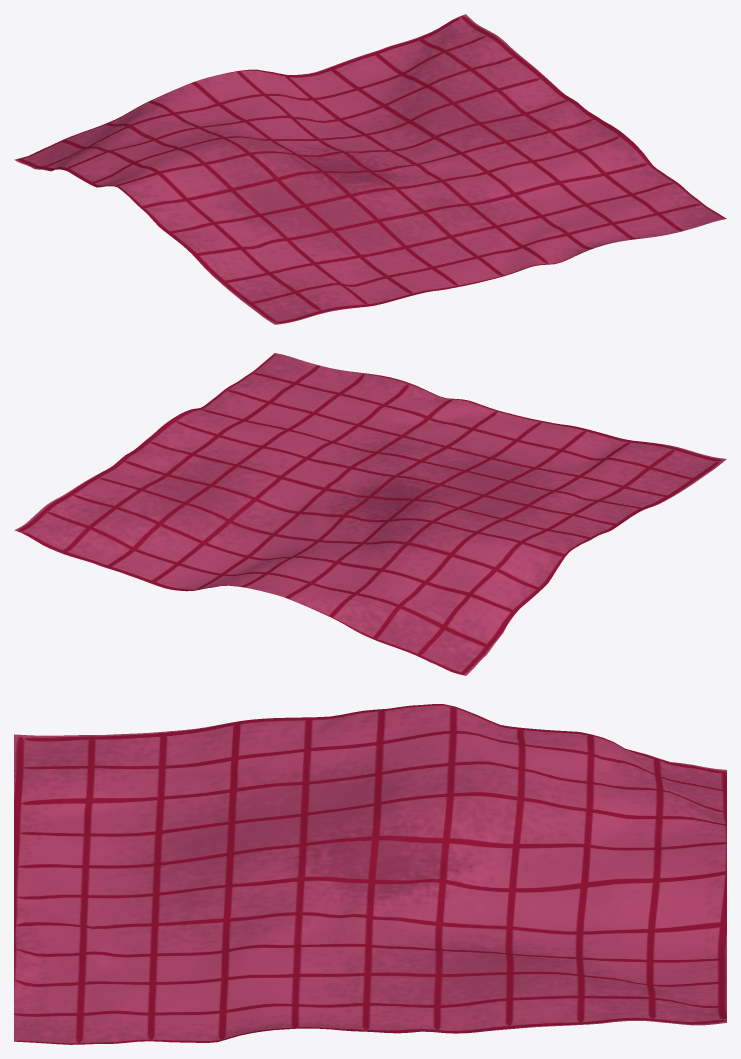
The model's file is Landscape.fbx.
3 renders of one model, top to bottom at view 1: azimuth 30°, elevation 25°; view 2: azimuth 150°, elevation 25°; view 3: azimuth 270°, elevation 25°, orthographic. The views are drawn at different scales.
Visible parts, largest first — view 1: Landscape.004; view 2: Landscape.004; view 3: Landscape.004.
Boxes of the visible parts, x1,y1,x2,y2 form: Landscape.004: (14, 14, 726, 324); Landscape.004: (14, 353, 726, 675); Landscape.004: (14, 704, 726, 1044).
Size of the model in its own units: 200 by 20.98 by 200.
